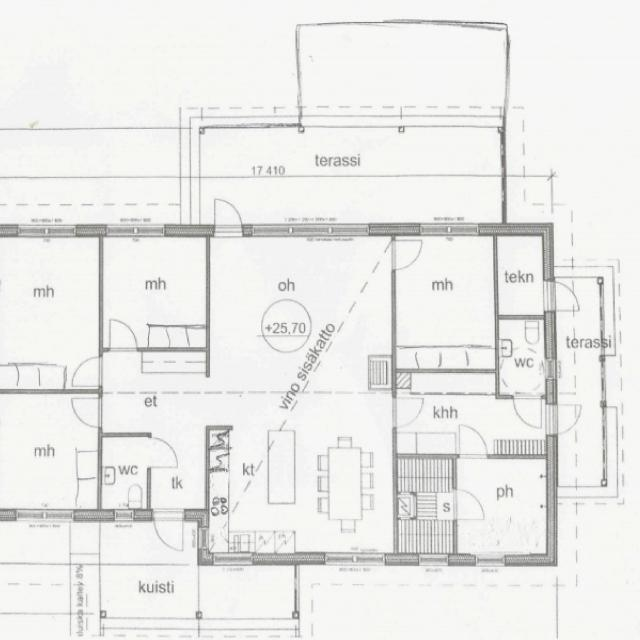door: (153, 509, 183, 554), (542, 404, 582, 434), (214, 194, 242, 236), (542, 282, 581, 311), (459, 423, 487, 458), (513, 395, 541, 429), (452, 490, 484, 519), (109, 318, 136, 352), (71, 357, 102, 386), (147, 438, 178, 467), (71, 399, 102, 427), (394, 241, 424, 269), (394, 399, 424, 427)
